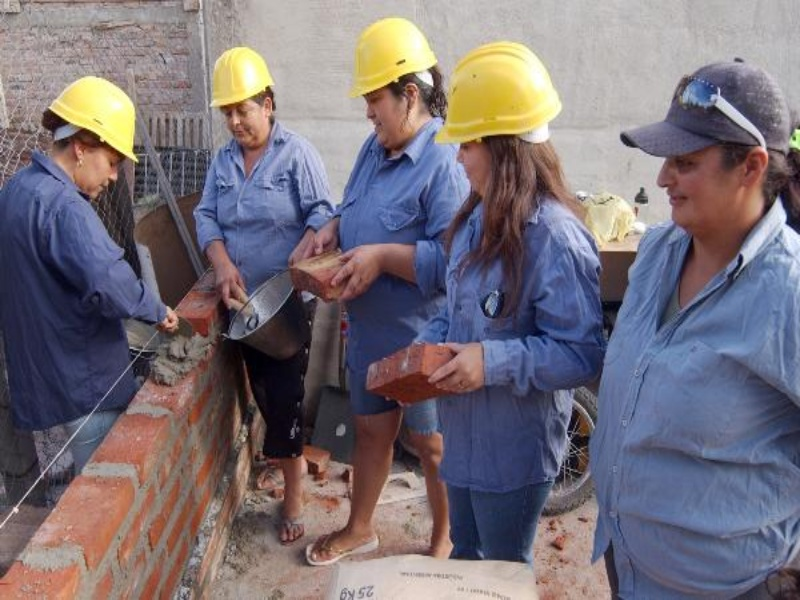casco: (432, 37, 563, 147), (46, 74, 143, 165), (351, 14, 440, 100), (207, 45, 278, 113)
